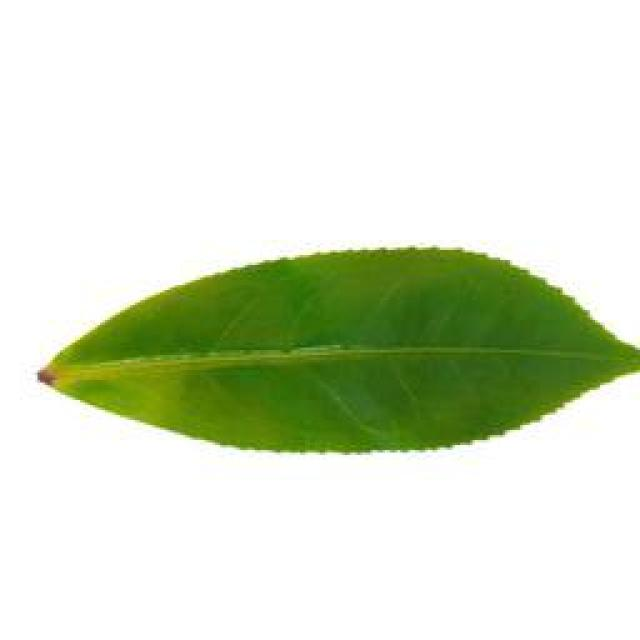Healthy: (32, 245, 640, 437)
